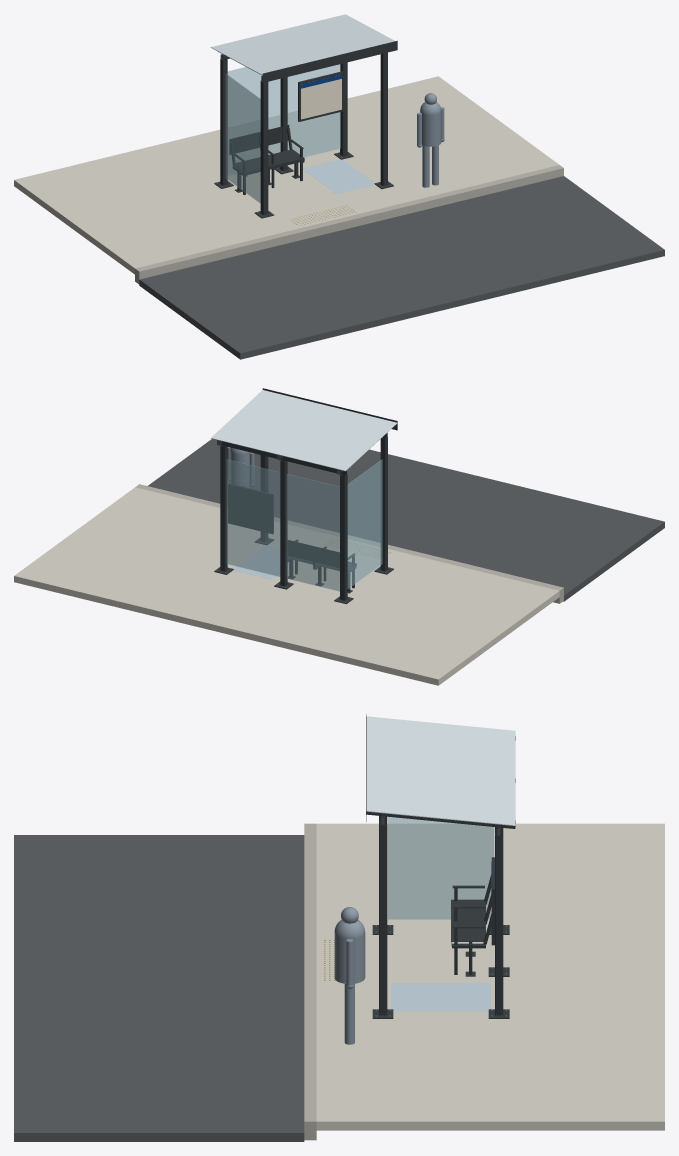
The model's file is essencial-compacto.glb.
3 renders of one model, top to bottom at view 1: azimuth 30°, elevation 25°; view 2: azimuth 150°, elevation 25°; view 3: azimuth 270°, elevation 25°, orthographic. The views are drawn at different scales.
Visible parts, largest first — view 1: A0-faixa-01, A0-passeio-01, A0-lancil-01, A2.1-cobertura-01, A3.1-vidro-lateral-01, A3.1-vidro-costas-01, A3.1-vidro-costas-02, A0-figura-01, A4.2-banco-assento-01, A0-zona-cadeira-rodas-01, A1.4-remate-frontal-01, A4.3-painel-cartaz-01 (+6 smaller); view 2: A0-passeio-01, A0-faixa-01, A2.1-cobertura-01, A3.1-vidro-costas-02, A3.1-vidro-costas-01, A3.1-vidro-lateral-01, A4.3-painel-informacao-01, A0-lancil-01, A0-zona-cadeira-rodas-01, A4.2-banco-assento-01, A1.1-pilar-03, A1.1-pilar-05 (+5 smaller); view 3: A0-passeio-01, A0-faixa-01, A2.1-cobertura-01, A3.1-vidro-lateral-01, A0-lancil-01, A0-zona-cadeira-rodas-01, A0-figura-01, A1.1-pilar-02, A1.1-pilar-05, A4.1-banco-estrutura-01, A4.2-banco-assento-01.
Boxes of the visible parts, x1,y1,x2,y2 form: A0-faixa-01: (139,176,664,359); A0-passeio-01: (14,76,559,274); A0-lancil-01: (135,165,563,284); A2.1-cobertura-01: (210,14,395,75); A3.1-vidro-lateral-01: (225,74,260,203); A3.1-vidro-costas-01: (227,67,280,175); A3.1-vidro-costas-02: (287,64,340,157); A0-figura-01: (417,93,444,187); A4.2-banco-assento-01: (229,125,304,175); A0-zona-cadeira-rodas-01: (303,159,374,193); A1.4-remate-frontal-01: (262,40,397,82); A4.3-painel-cartaz-01: (301,79,341,119); A0-passeio-01: (14,487,559,685); A0-faixa-01: (148,439,664,601); A2.1-cobertura-01: (211,390,397,471); A3.1-vidro-costas-02: (226,459,280,576); A3.1-vidro-costas-01: (286,474,339,591); A3.1-vidro-lateral-01: (347,459,382,588); A4.3-painel-informacao-01: (228,483,273,533); A0-lancil-01: (135,484,563,603); A0-zona-cadeira-rodas-01: (233,545,294,579); A4.2-banco-assento-01: (288,540,356,570); A1.1-pilar-03: (340,474,347,600); A1.1-pilar-05: (220,445,227,571); A0-passeio-01: (316,823,664,1130); A0-faixa-01: (14,835,304,1141); A2.1-cobertura-01: (366,716,515,825); A3.1-vidro-lateral-01: (388,816,493,919); A0-lancil-01: (304,823,316,1140); A0-zona-cadeira-rodas-01: (391,983,490,1011); A0-figura-01: (334,907,365,1044); A1.1-pilar-02: (379,821,387,1015); A1.1-pilar-05: (495,832,503,1015); A4.1-banco-estrutura-01: (452,875,491,976); A4.2-banco-assento-01: (451,899,485,945).
Bounding box in the file's own units: 8500 × 3452 × 7850.
